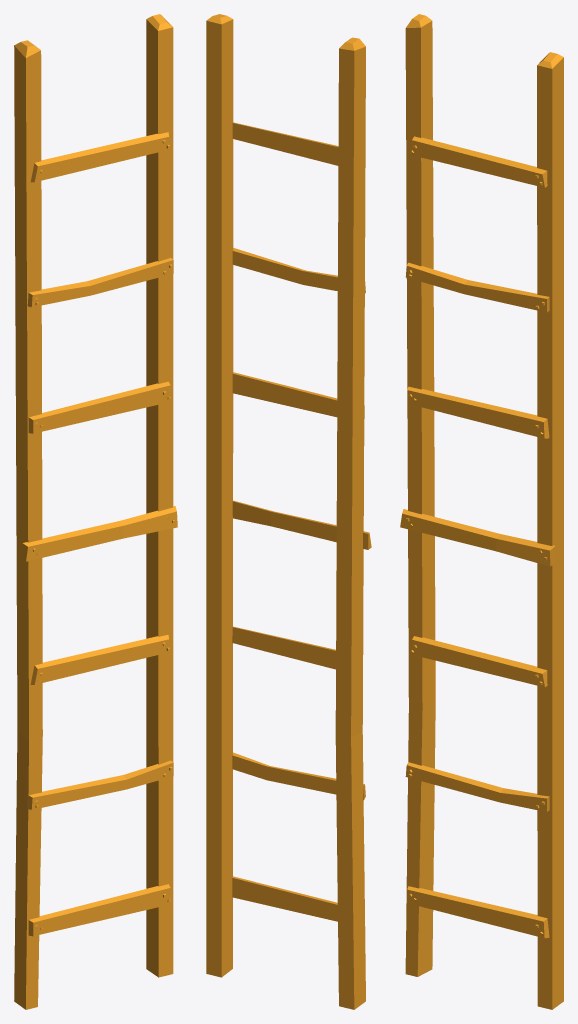
The model's file is SM_Ladder_Farm_B.fbx.
3 views of the same model, side by side, from view 1: azimuth 30°, elevation 25°; view 2: azimuth 150°, elevation 25°; view 3: azimuth 330°, elevation 25° (orthographic).
Parts seen in each view (by area): view 1: ladder-farm-b; view 2: ladder-farm-b; view 3: ladder-farm-b.
Boxes of the visible parts, bbox=[...] form: ladder-farm-b: bbox=[14, 14, 177, 1009]; ladder-farm-b: bbox=[206, 14, 371, 1009]; ladder-farm-b: bbox=[400, 14, 563, 1009].
Size of the model in its own units: 0.5 by 3 by 0.0892.
